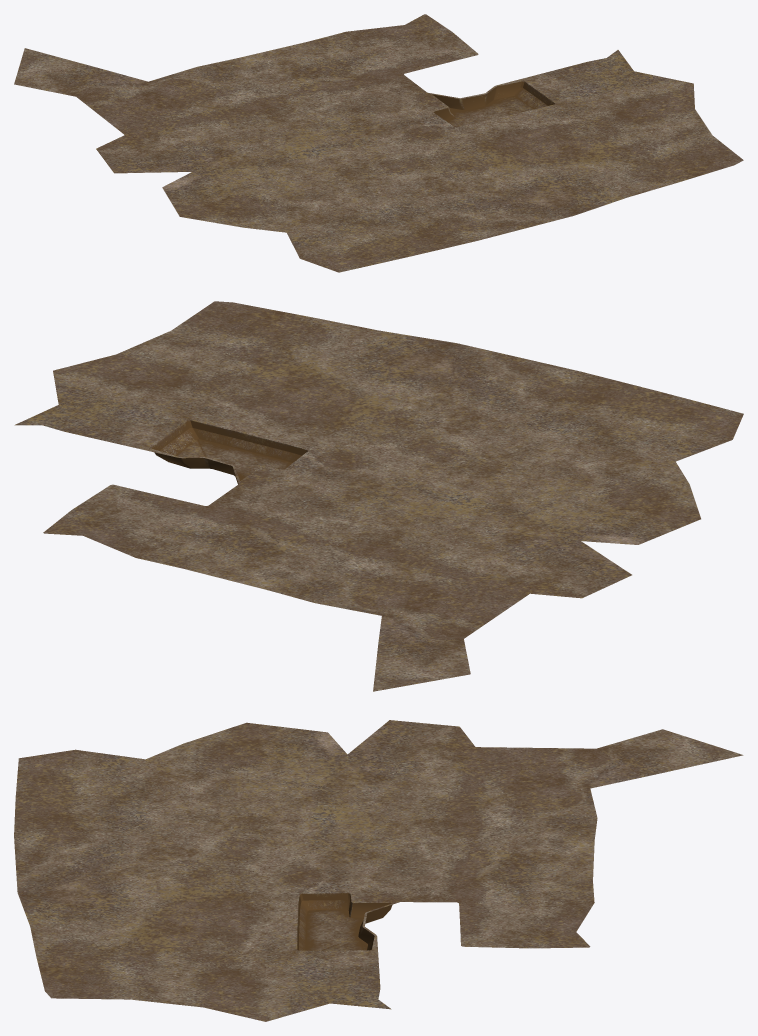
Rendered from suelo_t_3.obj.
The picture shows the model from 3 angles, top to bottom: view 1: azimuth 30°, elevation 25°; view 2: azimuth 150°, elevation 25°; view 3: azimuth 270°, elevation 25°; orthographic projection. The views are drawn at different scales.
Visible parts, largest first — view 1: suelo_t_3; view 2: suelo_t_3; view 3: suelo_t_3.
Boxes of the visible parts, bbox=[...] form: suelo_t_3: bbox=[14, 14, 743, 272]; suelo_t_3: bbox=[14, 301, 743, 691]; suelo_t_3: bbox=[14, 720, 743, 1021].
Size of the model in its own units: 295 by 5.43 by 301.
